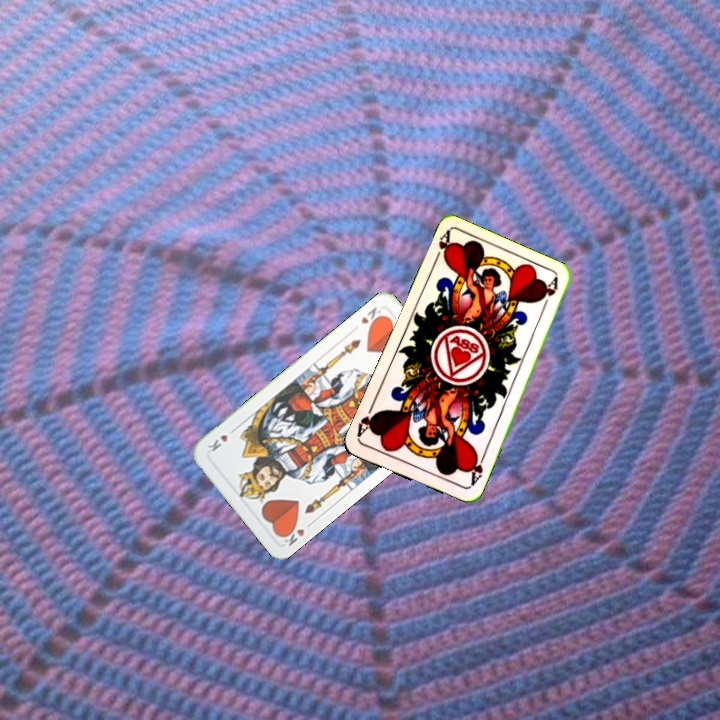HA: (429, 228, 455, 267), (465, 448, 488, 489)
HK: (278, 518, 315, 549), (357, 303, 386, 330)
